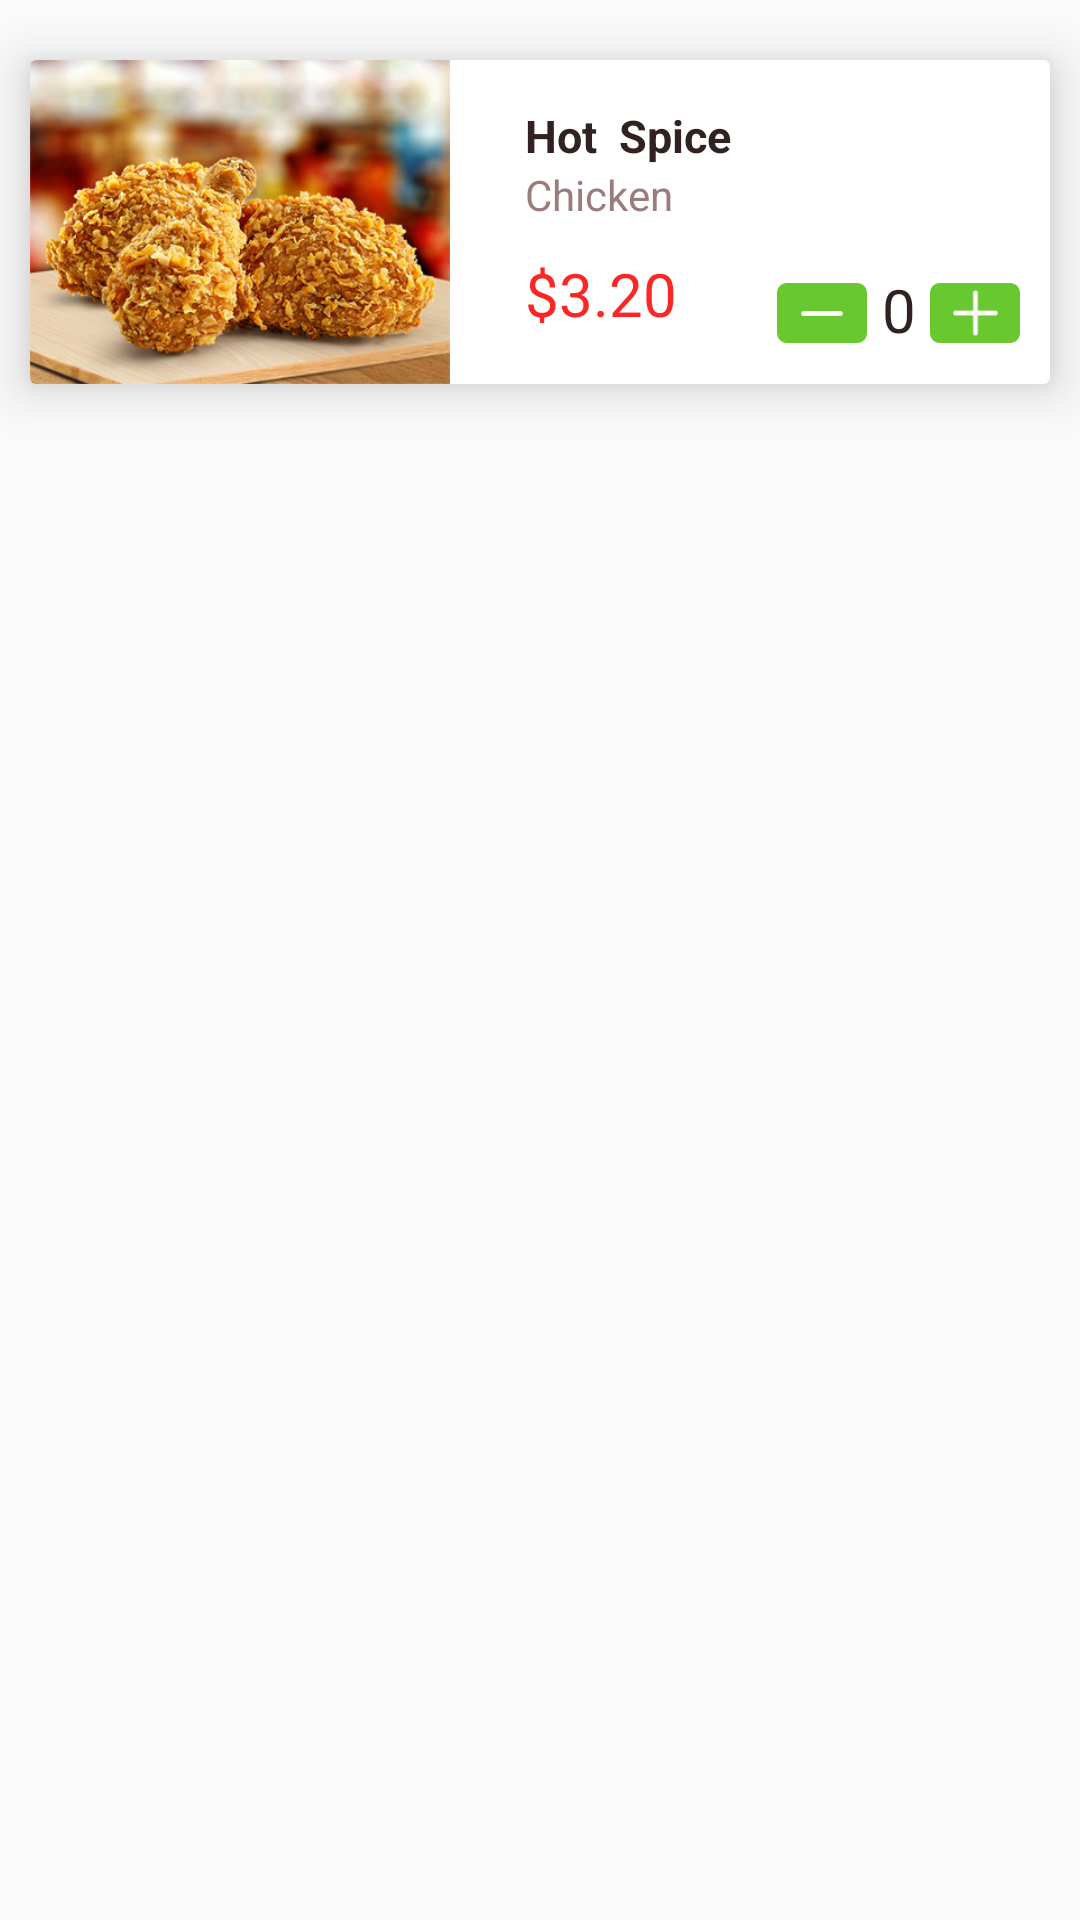

Icon click points for this 1080px×1920px phone screenshot, format point (x, y):
cong: point (975, 313)
tru: point (822, 313)
